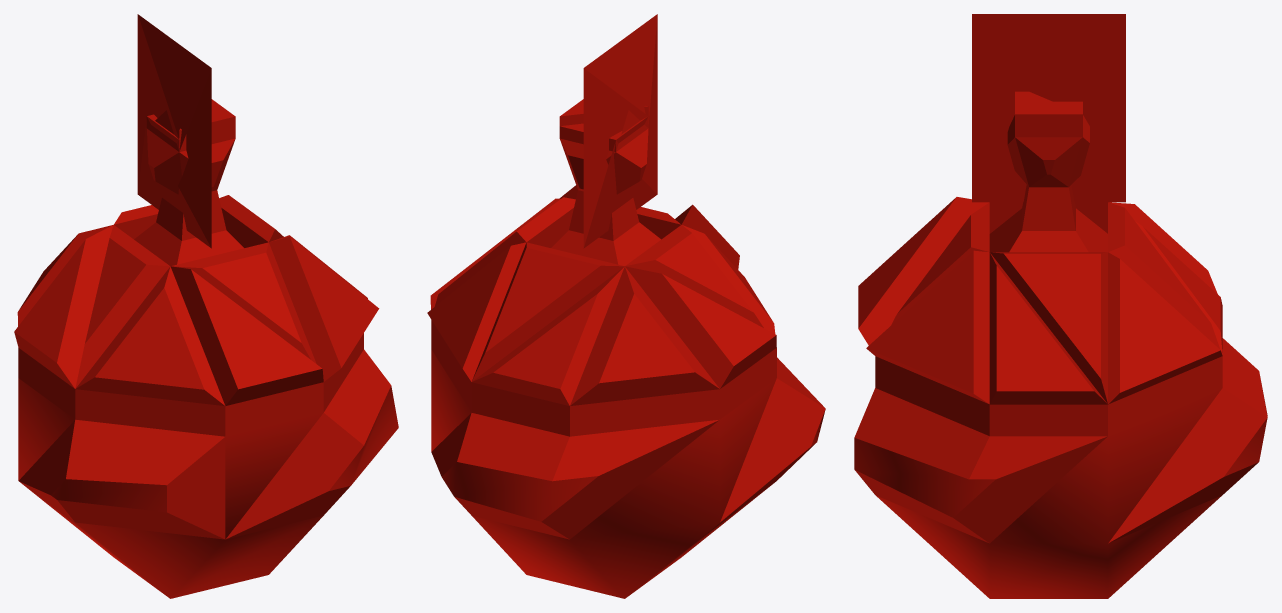
File: bomb.FBX
3 views of the same model, side by side, from view 1: azimuth 30°, elevation 25°; view 2: azimuth 150°, elevation 25°; view 3: azimuth 270°, elevation 25° (orthographic). The views are drawn at different scales.
Visible parts, largest first — view 1: BlobMesh001; view 2: BlobMesh001; view 3: BlobMesh001.
Boxes of the visible parts, x1,y1,x2,y2 form: BlobMesh001: (14,14,398,598); BlobMesh001: (427,14,825,598); BlobMesh001: (854,14,1267,598).
Bounding box in the file's own units: 19.78 × 29.83 × 20.26.
